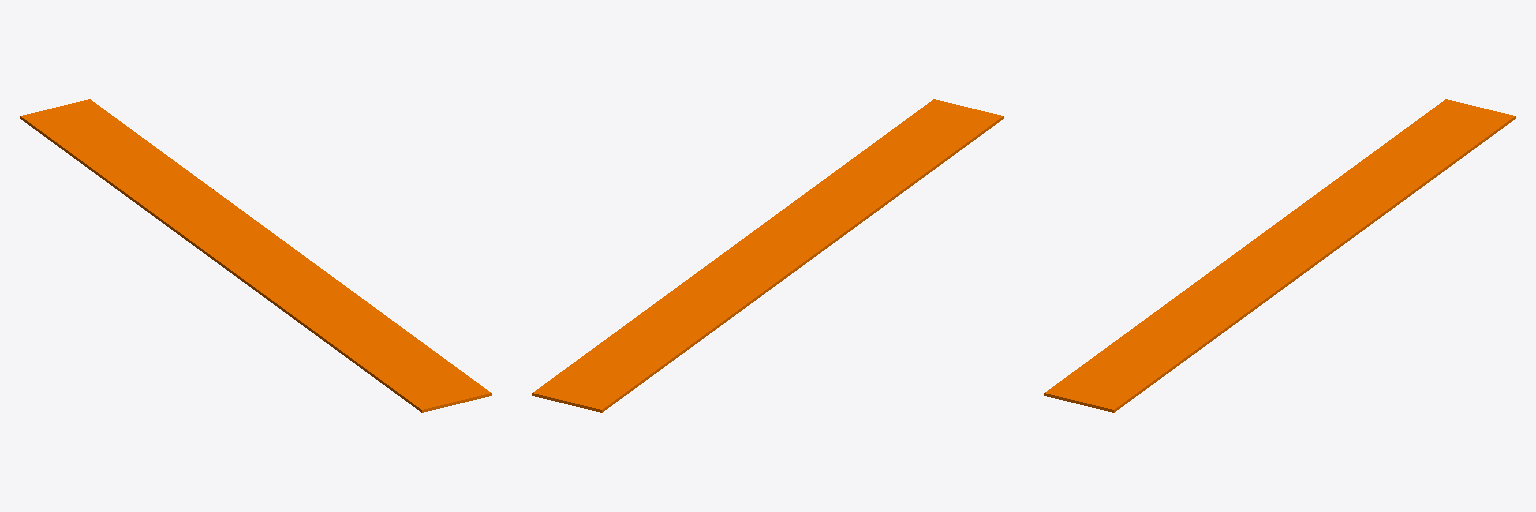
URDF robot description (ypaddle2D):
<robot name="ypaddle2D">
    
  <link name="base_link">
    <inertial>
      <origin rpy="0 0 0" xyz="0 0 0"/>
       <mass value="0"/>
       <inertia ixx="0" ixy="0" ixz="0" iyy="0" iyz="0" izz="0"/>
    </inertial>
  </link>

  <link name="x_link">
    <inertial>
      <origin rpy="0 0 0" xyz="0 0 0"/>
       <mass value="0.0001"/>
       <inertia ixx="0.0001" ixy="0" ixz="0" iyy="0.0001" iyz="0" izz="0.0001"/>
    </inertial>
  </link>


  <link name="y_link">
    <inertial>
      <origin rpy="0 0 0" xyz="0 0 0"/>
       <mass value="0.0001"/>
       <inertia ixx="0.0001" ixy="0" ixz="0" iyy="0.0001" iyz="0" izz="0.0001"/>
    </inertial>
  </link>


  <link name="theta_link">
    <inertial>
      <origin rpy="0 0 0" xyz="0 0 0"/>
       <mass value="1.0"/>
       <inertia ixx="0.0001" ixy="0" ixz="0" iyy="0.0001" iyz="0" izz="0.0001"/>
    </inertial>

    <visual>
      <origin rpy="0 0 0" xyz="0 0 0"/>
      <geometry>
        <box size="5.0 50 0.2" />      
      </geometry>
      <material name="white">
        <color rgba="1 0.5 0 1"/>
      </material>
    </visual>
    
    <collision>
      <origin rpy="0 0 0" xyz="0 0 0"/>
      <geometry>
        <box size="5.0 50 0.2" />
      </geometry>
    </collision>
  </link>

  <joint name = "x_prismatic" type = "prismatic">
    <origin xyz = "0.0 0.0 0.0" rpy = "0 0 0"/> 
    <parent link = "base_link"/>
    <child link= "x_link"/>
    <axis xyz = "1 0 0"/>
    <limit effort="1.0" lower="-10000" upper="10000" velocity="10000" />
    <dynamics damping = "0.0" friction="0.0" />
  </joint>

  <joint name = "y_prismatic" type = "prismatic">
    <origin xyz = "0.0 0.0 0.0" rpy = "0 0 0"/> 
    <parent link = "x_link" />
    <child link= "y_link"/>
    <axis xyz = "0 1 0" />
    <limit effort="1.0" lower="-10000" upper="10000" velocity="10000" />
    <dynamics damping = "0.0" friction="0.0" />
  </joint>

   <joint name = "theta_revolute" type = "revolute">
    <origin xyz = "0.0 0.0 0.0" rpy = "0 0 0"/> 
    <parent link = "y_link" />
    <child link= "theta_link"/>
    <axis xyz = "0 0 1" />
    <limit effort="1.0" lower="-10000" upper="10000" velocity="10000" />
    <dynamics damping = "0.0" friction="0.0" />
  </joint>

    
</robot>

--- What the picture shows (computed from the rendered views, not written in the file) ---
The picture shows the robot from 3 angles, left to right: view 1: azimuth 30°, elevation 25°; view 2: azimuth 150°, elevation 25°; view 3: azimuth 330°, elevation 25°; orthographic projection.
Robot: ypaddle2D — 4 links, 3 joints (1 revolute, 2 prismatic); root link base_link; default pose: all joints at 0.
Links seen in each view (by area): view 1: theta_link; view 2: theta_link; view 3: theta_link.
Link boxes in pixels (x1,y1,x2,y2): theta_link: (20,99,491,412); theta_link: (532,99,1003,412); theta_link: (1044,99,1515,412).
Bounding box of the posed robot: 5 × 50 × 0.2 m (x, y, z).
Geometry: primitives only (box / cylinder / sphere), no mesh files.